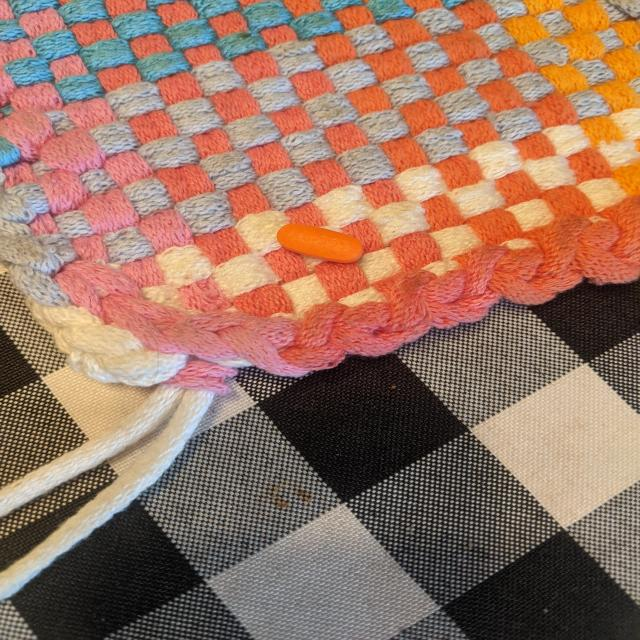non-organic waste: (276, 222, 364, 264)
